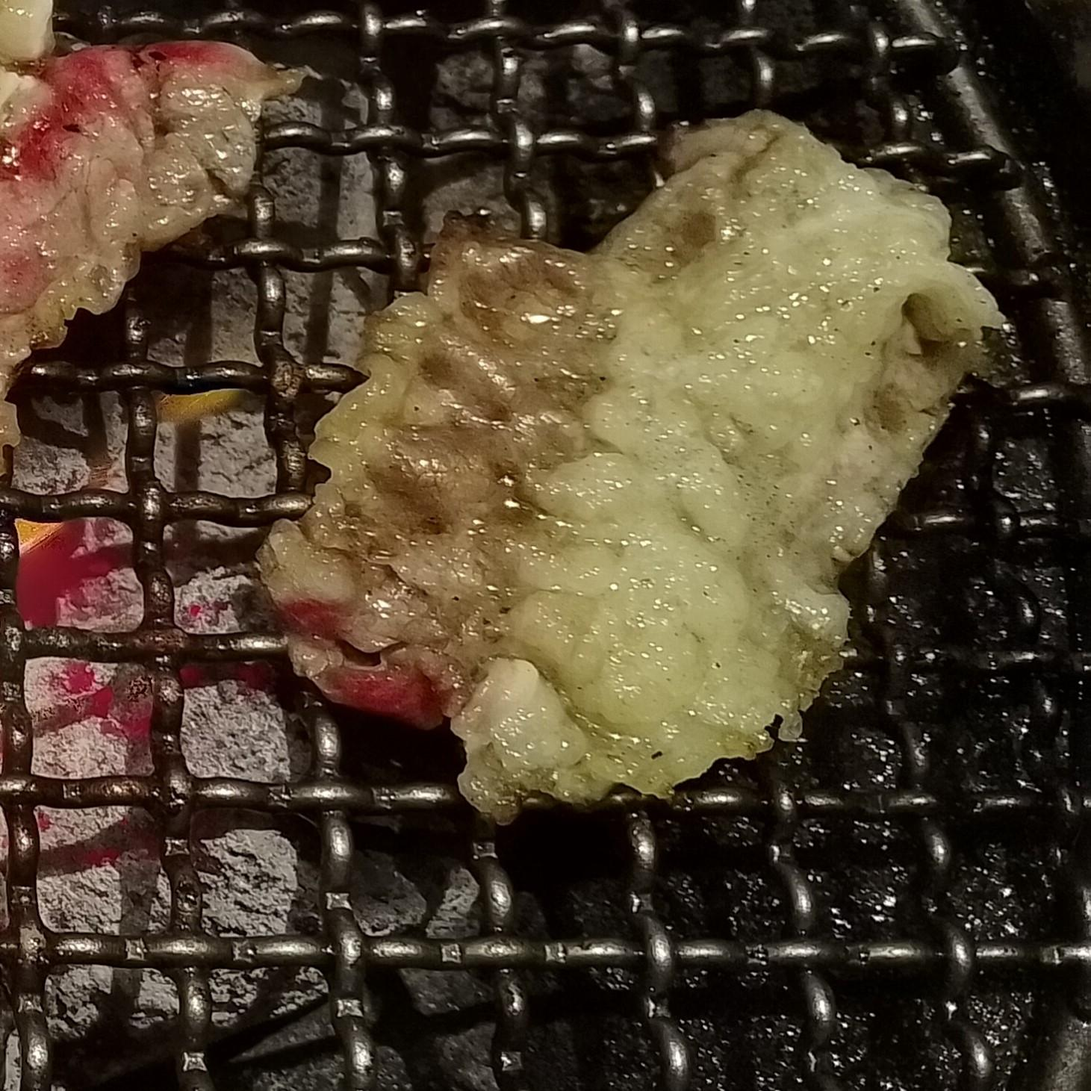Well-Cooked: (258, 111, 1004, 821)
